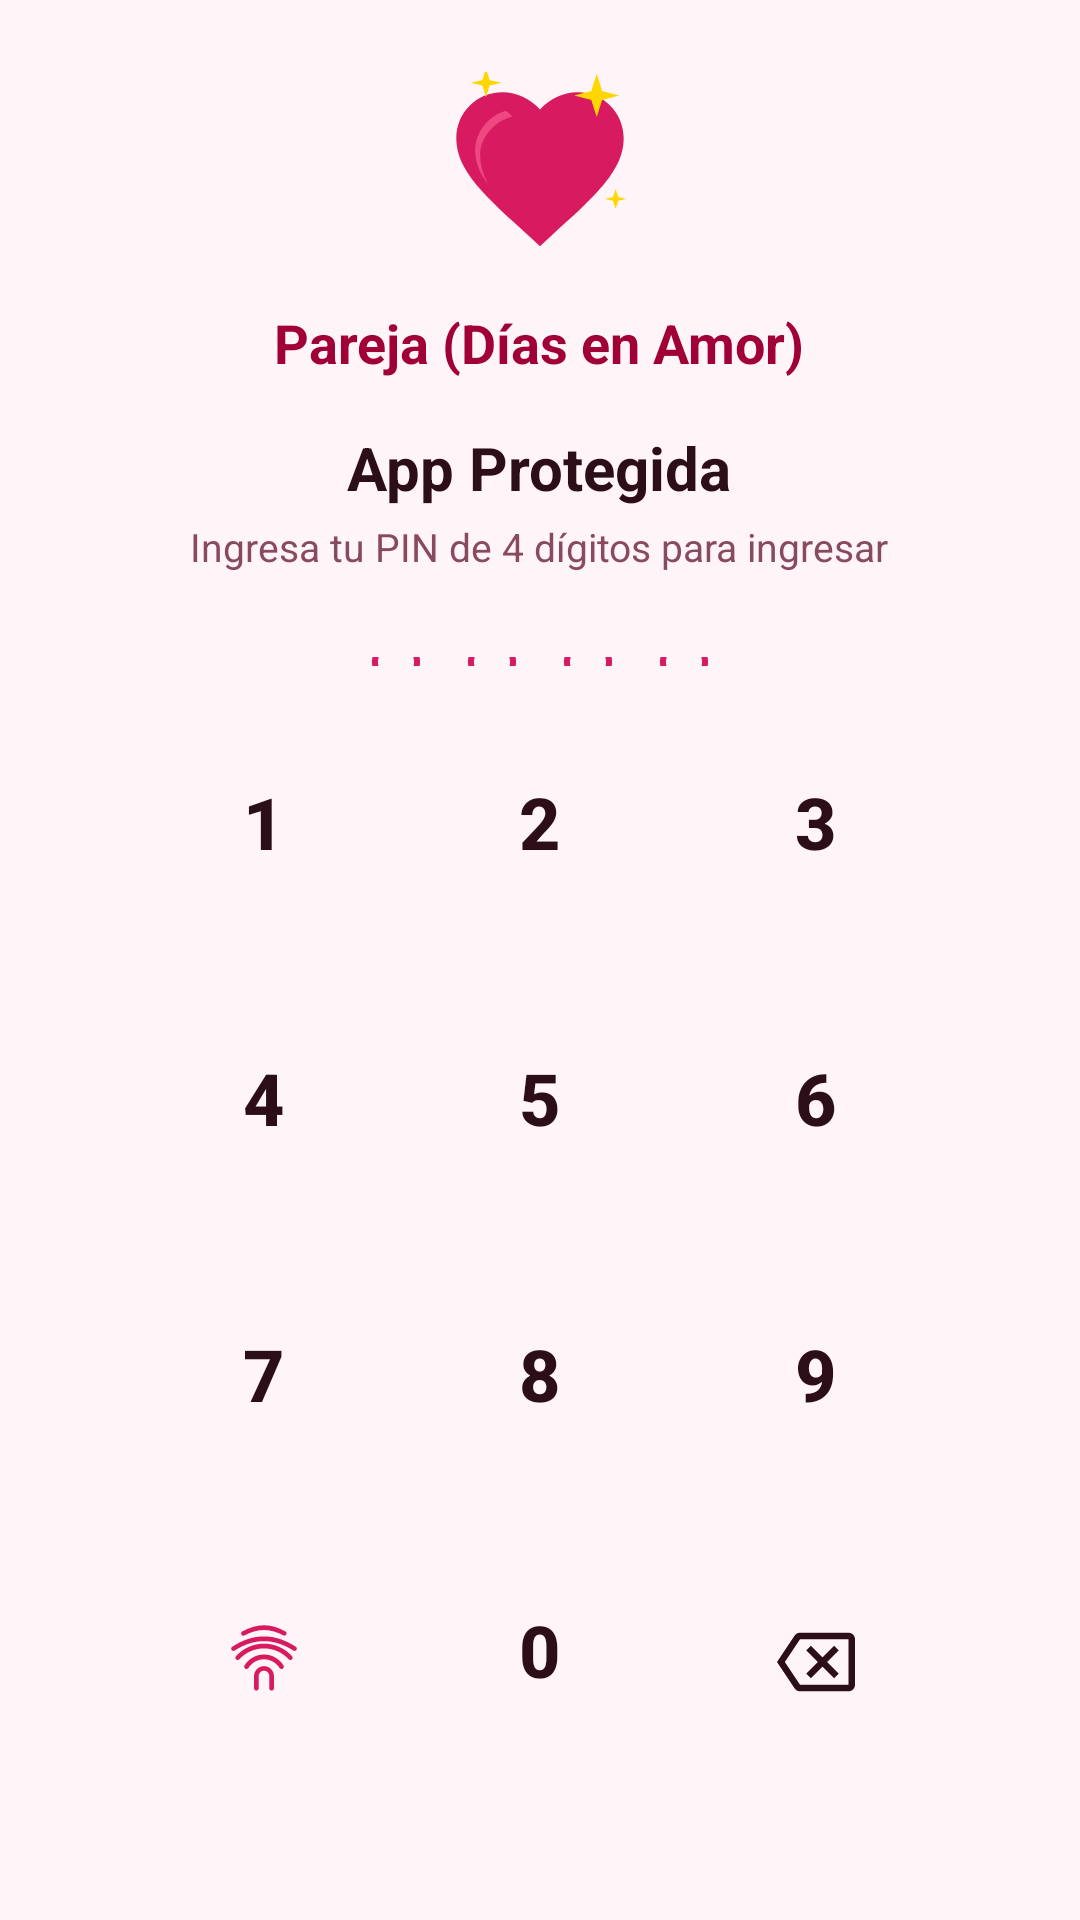

Icon click points for this 1080 x 1920 phone screenshot, format [x,y]:
backspace: [816,1662]
fingerprint: [264,1658]
